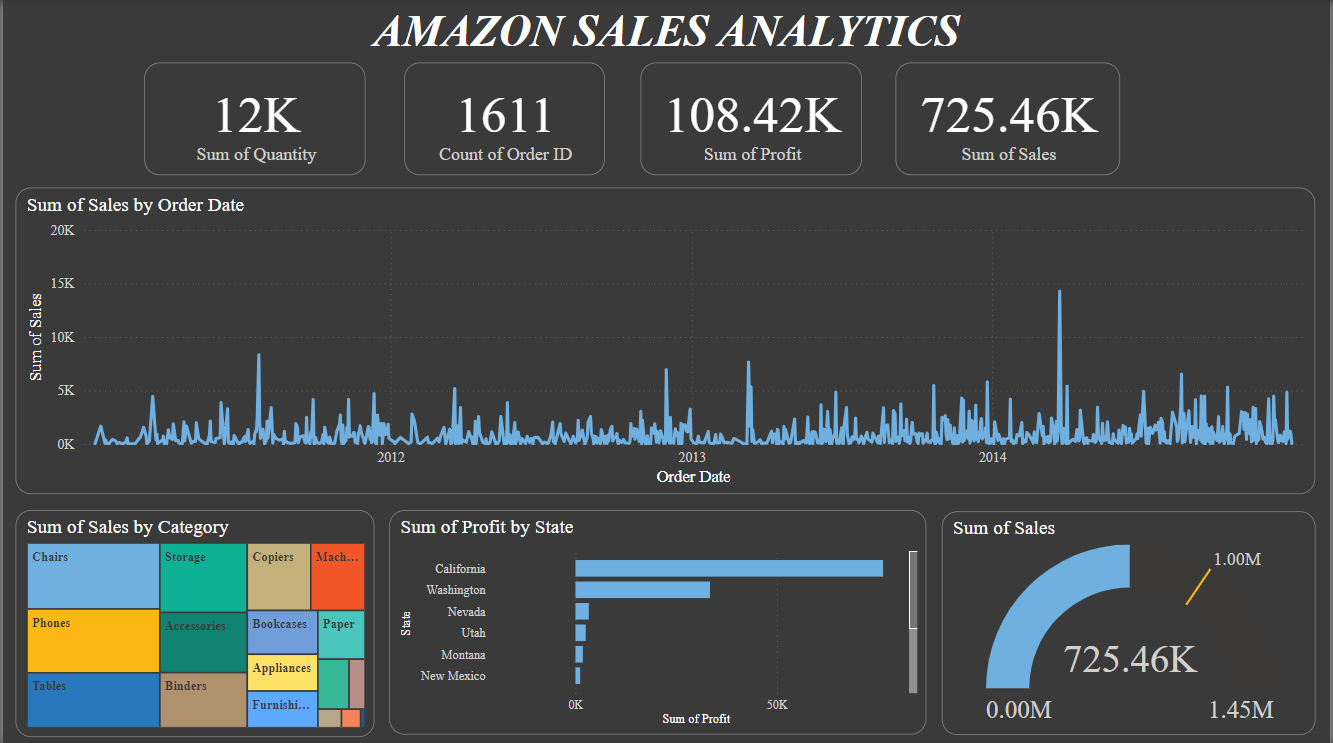

This screenshot's page, from the dashboard's own definition file:
{"tool":"powerbi","page":{"name":"Page 1","canvas":[1280,720],"ordinal":0},"visuals":[{"type":"card","fields":{"Values":["Sum(Walmart.Sales)"]},"box":[860.9,59.9,216.4,108.8],"z":0},{"type":"card","fields":{"Values":["Sum(Walmart.Profit)"]},"box":[615.1,59.9,214,108.8],"z":1},{"type":"card","fields":{"Values":["Sum(Walmart.Quantity)"]},"box":[135.7,59.9,214,108.8],"z":2},{"type":"card","fields":{"Values":["Count(Walmart.Order ID)"]},"box":[387.6,59.9,193.2,108.8],"z":3},{"type":"lineChart","fields":{"Category":["Walmart.Order Date"],"Y":["Sum(Walmart.Sales)"]},"box":[12.2,181,1254.6,295.9],"z":4},{"type":"treemap","fields":{"Group":["Walmart.Category"],"Values":["Sum(Walmart.Sales)"]},"box":[12.2,492.8,346.1,218.9],"z":6},{"type":"barChart","fields":{"Category":["Walmart.State"],"Y":["Sum(Walmart.Profit)"]},"box":[373,492.8,518.5,216.4],"z":7},{"type":"gauge","fields":{"Y":["Sum(Walmart.Sales)"]},"box":[906,493.4,360.7,216],"z":8},{"type":"textbox","box":[0,0,1280.3,59.9],"z":9}]}

Visuals, with their boxes in screenshot pixels (x1, y1, x2, y2), scaled from the page's 1280x720 canvas onto the 1333x743 screenshot:
card - Sum(Walmart.Sales): {"left": 897, "top": 62, "right": 1122, "bottom": 174}
card - Sum(Walmart.Profit): {"left": 641, "top": 62, "right": 863, "bottom": 174}
card - Sum(Walmart.Quantity): {"left": 141, "top": 62, "right": 364, "bottom": 174}
card - Count(Walmart.Order ID): {"left": 404, "top": 62, "right": 605, "bottom": 174}
lineChart - Walmart.Order Date x Sum(Walmart.Sales): {"left": 13, "top": 187, "right": 1319, "bottom": 492}
treemap - Walmart.Category x Sum(Walmart.Sales): {"left": 13, "top": 509, "right": 373, "bottom": 734}
barChart - Walmart.State x Sum(Walmart.Profit): {"left": 388, "top": 509, "right": 928, "bottom": 732}
gauge - Sum(Walmart.Sales): {"left": 944, "top": 509, "right": 1319, "bottom": 732}
textbox: {"left": 0, "top": 0, "right": 1332, "bottom": 62}
